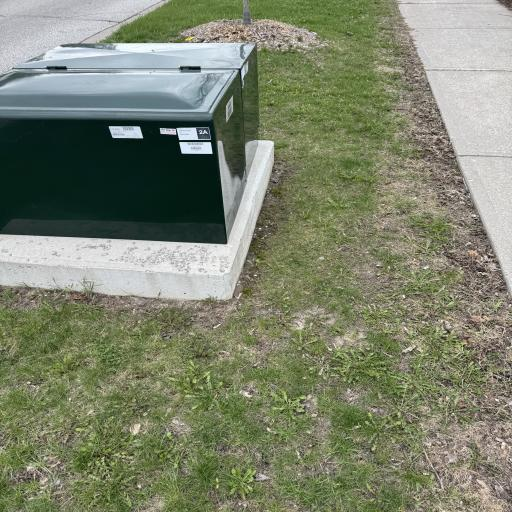Electrical Box: (0, 44, 259, 244)
